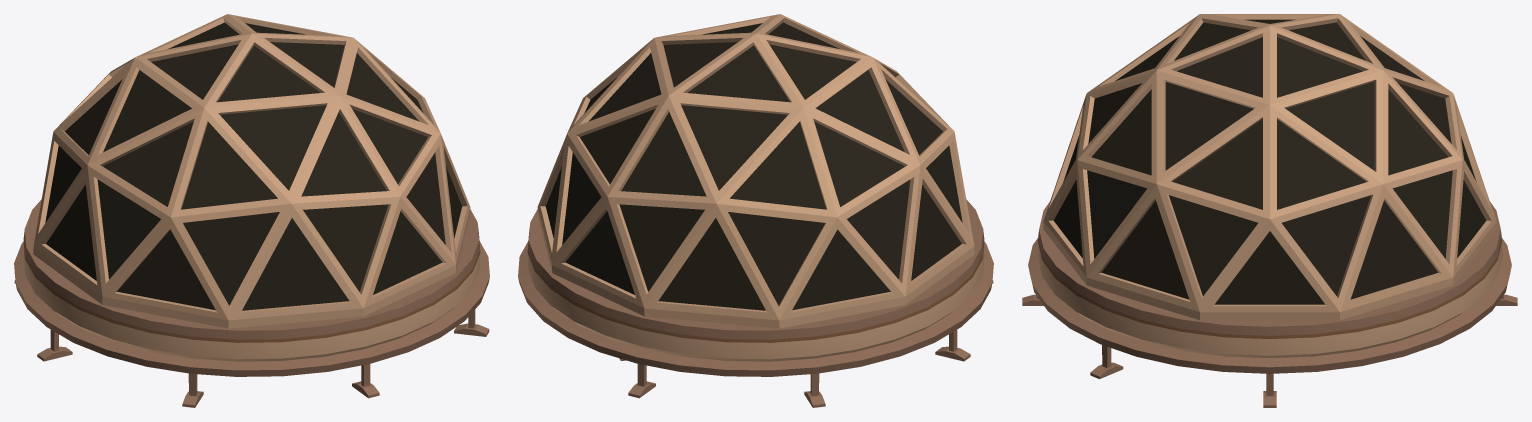
Rendered from n_geodesicdome.glb.
3 renders of one model, left to right at view 1: azimuth 30°, elevation 25°; view 2: azimuth 150°, elevation 25°; view 3: azimuth 270°, elevation 25°, orthographic.
Visible parts, largest first — view 1: GeodesicDome; view 2: GeodesicDome; view 3: GeodesicDome.
Part boxes in pixels (bbox=[...]): GeodesicDome: bbox=[14, 14, 489, 407]; GeodesicDome: bbox=[518, 14, 993, 407]; GeodesicDome: bbox=[1022, 14, 1517, 407].
Bounding box in the file's own units: 8.53 × 5.28 × 8.53.
1 material, 1 textured.
